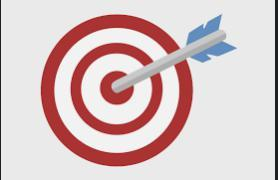target_red: (40, 13, 193, 166)
